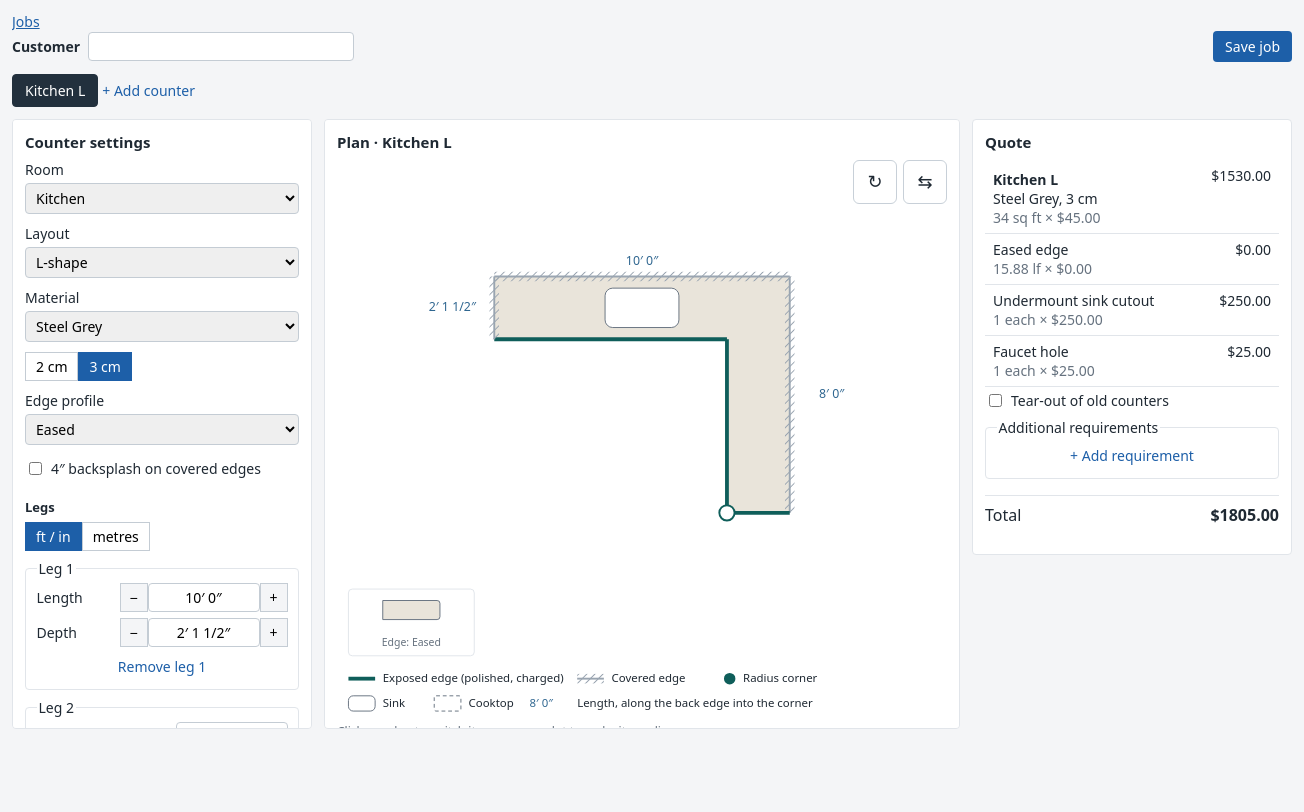
Scenario: a new job › opens the sample Kitchen L priced from today’s list, and moves to its own address once saved
The width and height of the screenshot is (1304, 812).
Expected: the tab "Kitchen L" is shown, [12,74,98,107]
Type " Ana Ruiz " into the field labelled "Customer" at (221, 46), box [88,32,354,61]
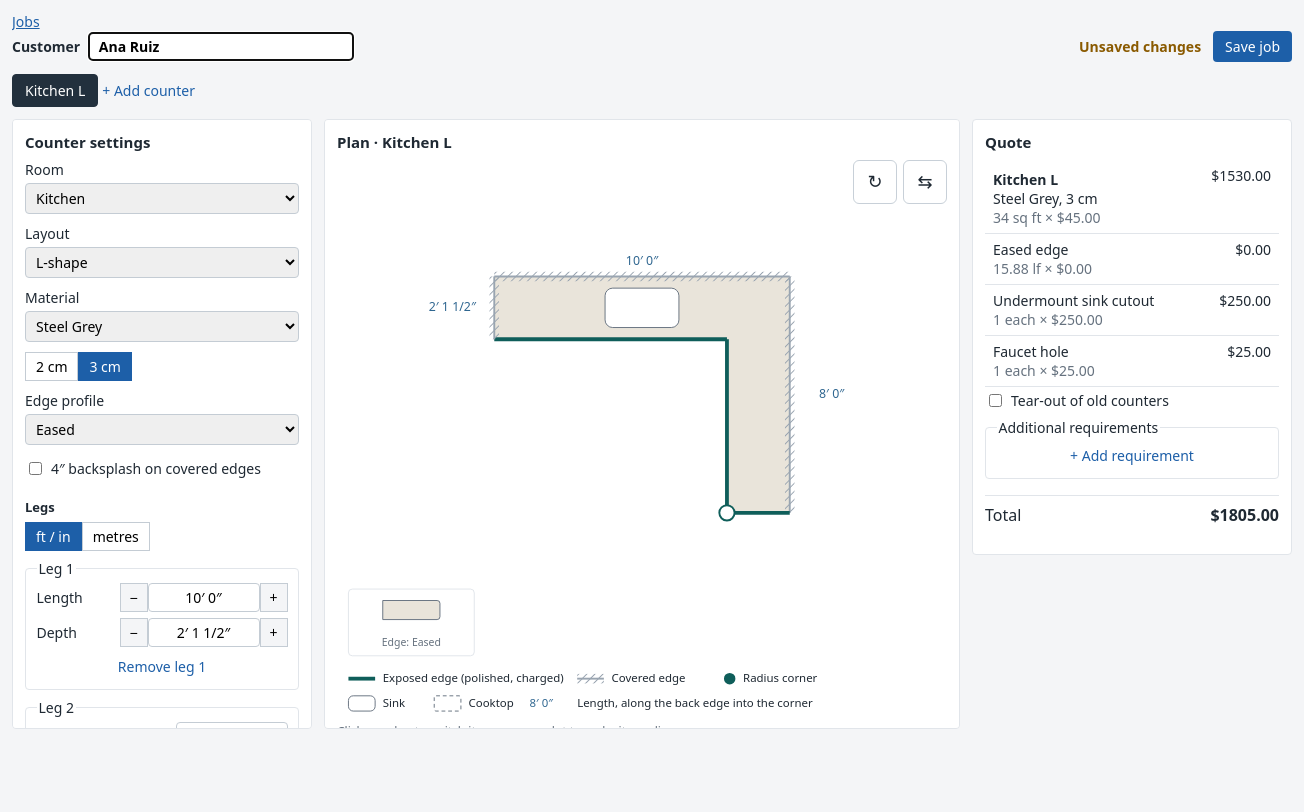
Click the button "Save job" at (1253, 46), box [1213,31,1292,62]
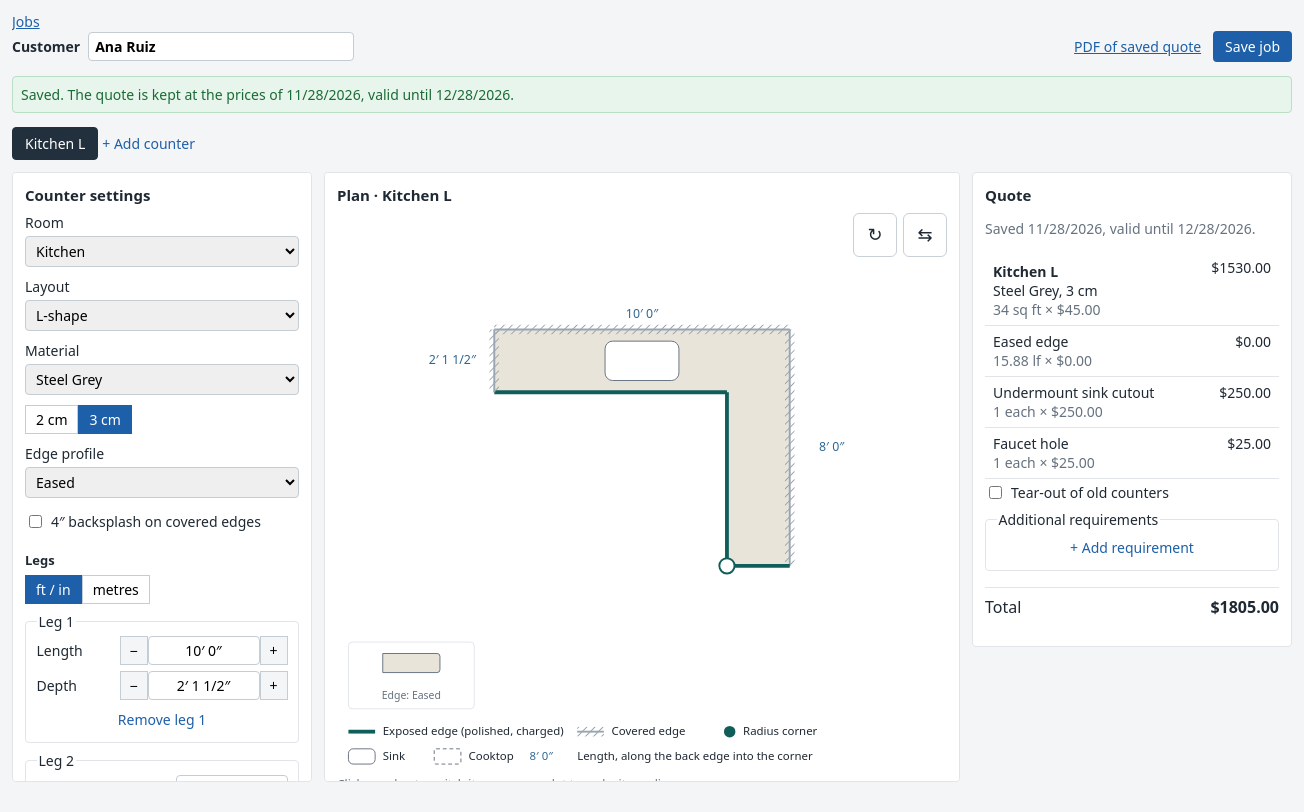
Expected: the text "Saved. The quote is kept" is shown, [21,85,514,104]
